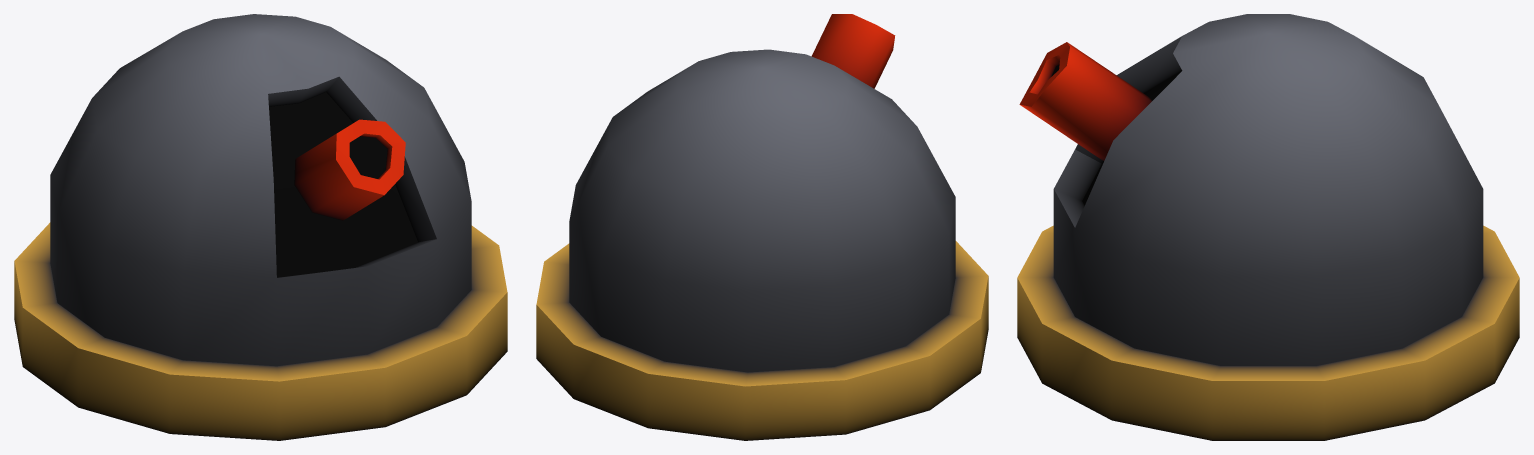
The model's file is Turret.fbx.
3 renders of one model, left to right at view 1: azimuth 30°, elevation 25°; view 2: azimuth 150°, elevation 25°; view 3: azimuth 270°, elevation 25°, orthographic. The views are drawn at different scales.
Visible parts, largest first — view 1: Kugel; view 2: Kugel; view 3: Kugel.
Part boxes in pixels (<box>): Kugel: <box>14,14,507,440</box>; Kugel: <box>536,14,988,440</box>; Kugel: <box>1017,14,1519,440</box>.
Bounding box in the file's own units: 222 × 152 × 228.
